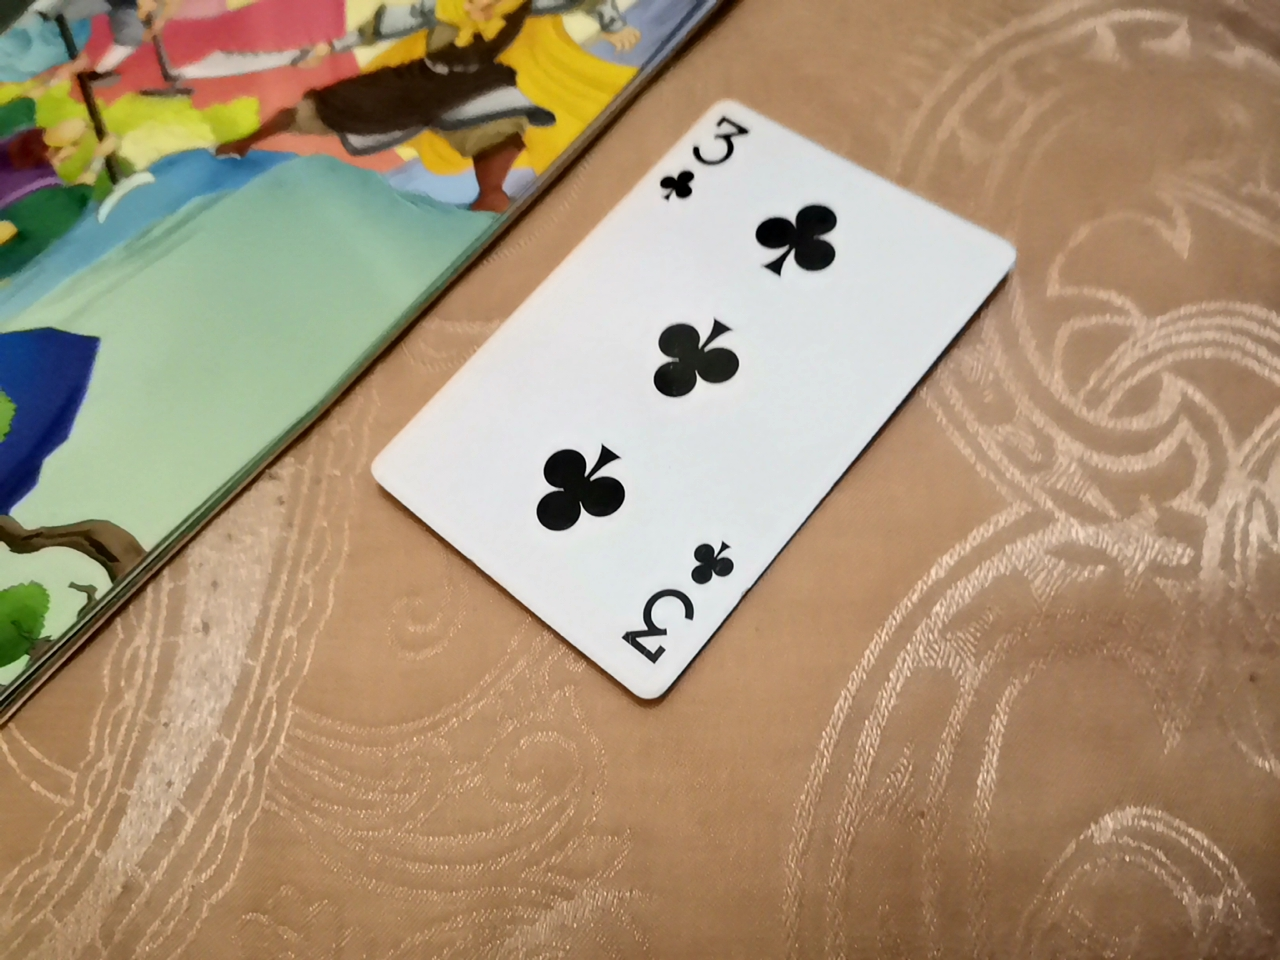mh 3: (358, 88, 1022, 713)
